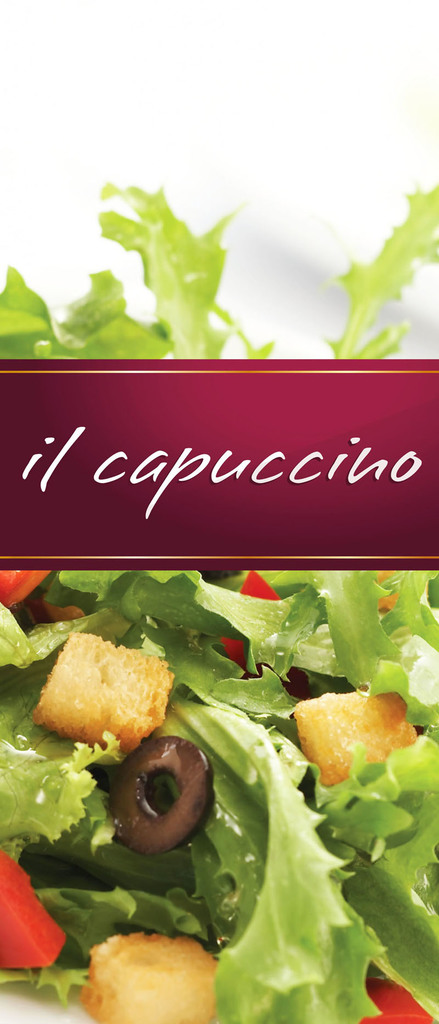salad: (0, 168, 438, 1023)
